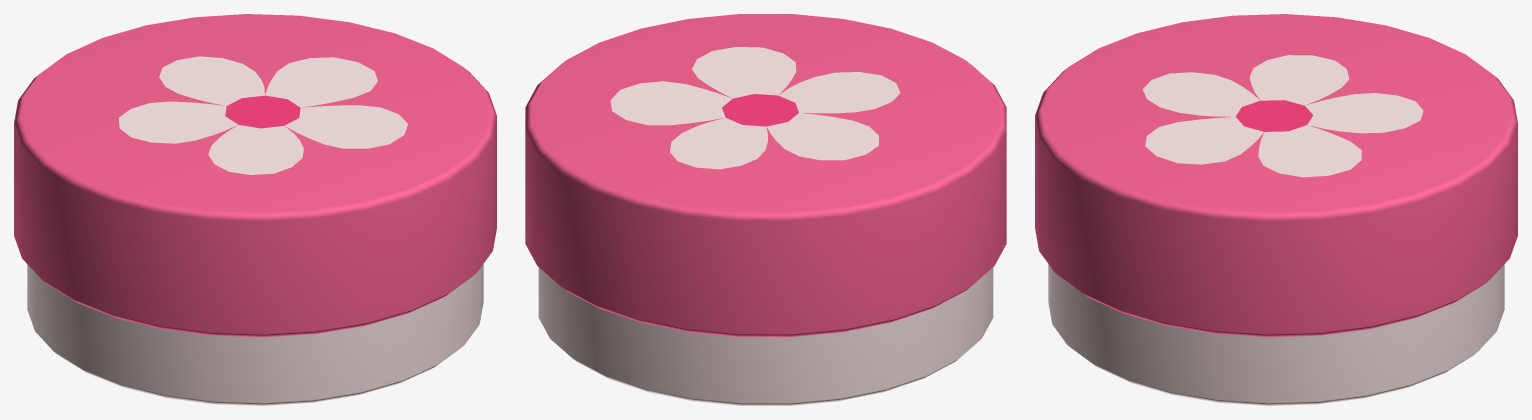
File: Store_17_Cream_2.glb
3 views of the same model, side by side, from view 1: azimuth 30°, elevation 25°; view 2: azimuth 150°, elevation 25°; view 3: azimuth 270°, elevation 25° (orthographic).
Visible parts, largest first — view 1: Store_17_Cream_2; view 2: Store_17_Cream_2; view 3: Store_17_Cream_2.
Boxes of the visible parts, <box> form: Store_17_Cream_2: <box>14,14,496,405</box>; Store_17_Cream_2: <box>525,14,1006,405</box>; Store_17_Cream_2: <box>1035,14,1517,405</box>.
Size of the model in its own units: 0.7867 by 0.3586 by 0.7867.
1 material, 1 textured.
